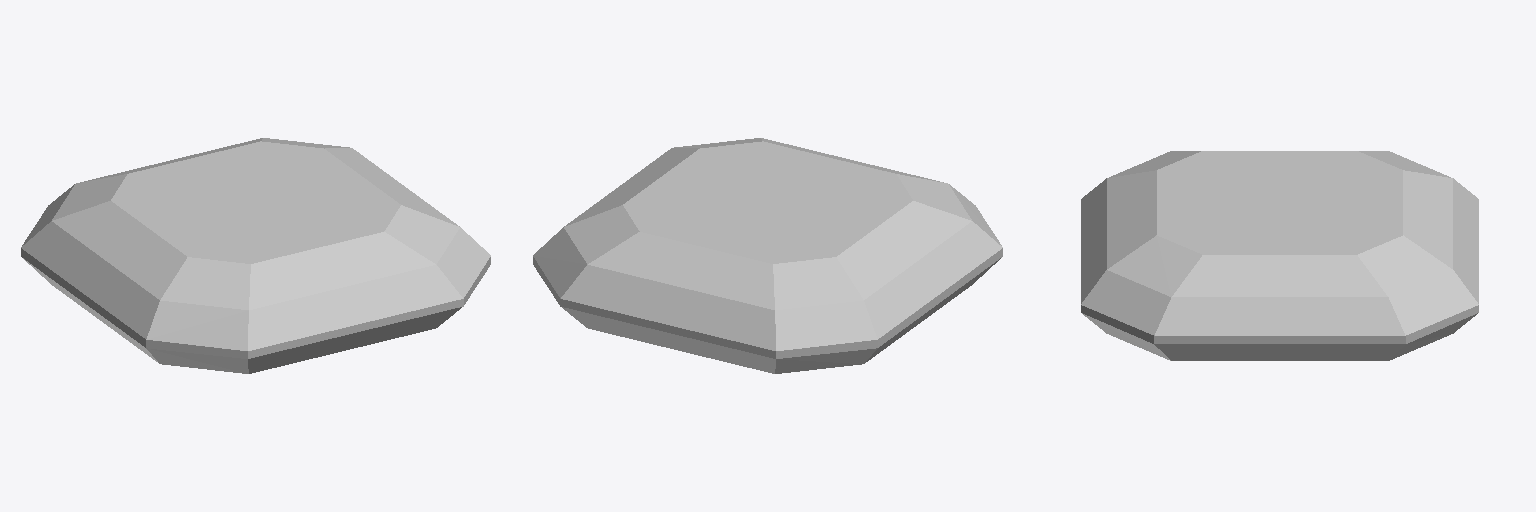
The picture shows the model from 3 angles: view 1: azimuth 30°, elevation 25°; view 2: azimuth 150°, elevation 25°; view 3: azimuth 270°, elevation 25°; orthographic projection.
Visible parts, largest first — view 1: Gemstone_03.002; view 2: Gemstone_03.002; view 3: Gemstone_03.002.
Boxes of the visible parts, <box> form: Gemstone_03.002: <box>21,138,490,373</box>; Gemstone_03.002: <box>533,138,1002,373</box>; Gemstone_03.002: <box>1081,151,1478,360</box>.
Size of the model in its own units: 0.8924 by 0.2632 by 0.8932.